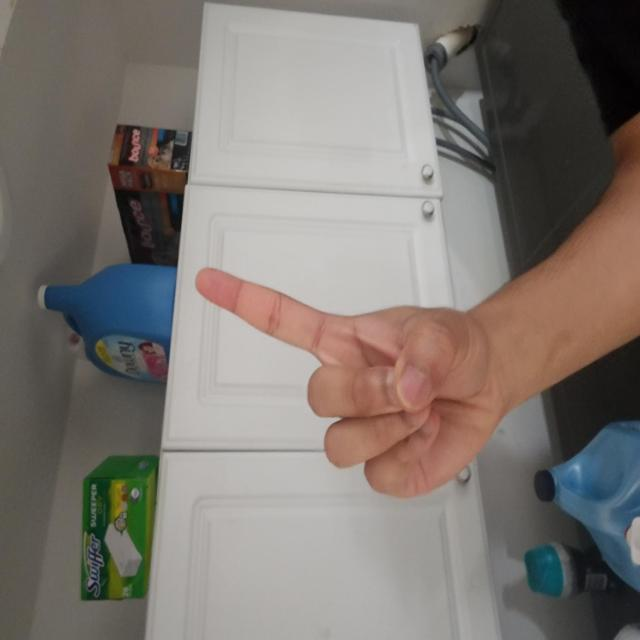D: (106, 260, 282, 640)
